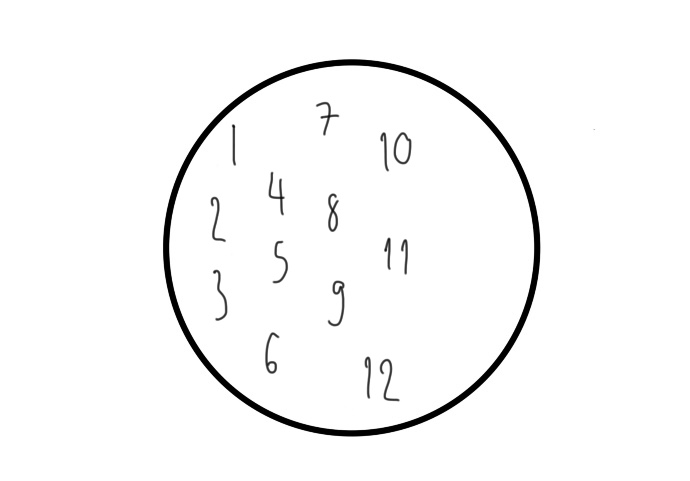eight: (323, 192, 341, 233)
eleven: (382, 234, 409, 277)
five: (268, 239, 291, 287)
four: (264, 167, 289, 218)
nine: (325, 276, 346, 330)
one: (229, 121, 239, 170)
seven: (314, 99, 339, 138)
six: (264, 331, 284, 375)
ten: (378, 127, 414, 173)
three: (210, 265, 232, 322)
twelve: (363, 354, 400, 406)
two: (205, 193, 227, 245)
